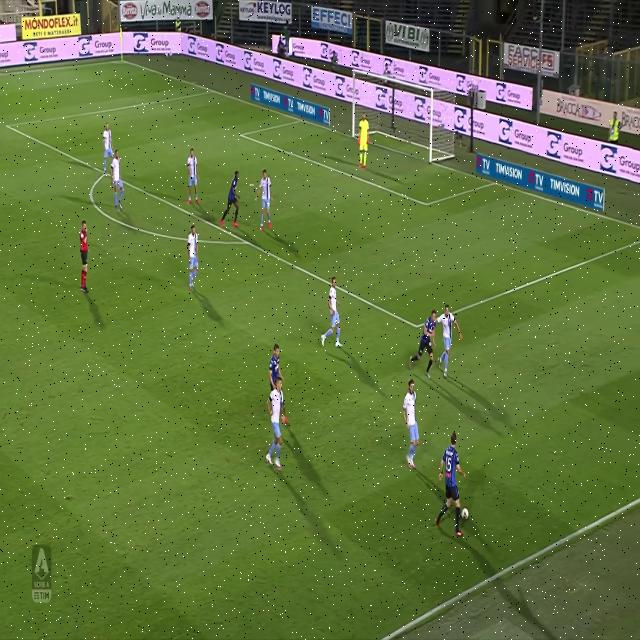Ball: (461, 503, 470, 529)
GoalKeeper: (354, 114, 373, 174)
TEAM 1: (434, 302, 467, 384), (266, 373, 292, 474), (397, 375, 423, 475), (322, 276, 347, 354), (254, 163, 272, 239), (109, 148, 128, 218), (185, 146, 202, 208), (188, 223, 202, 290), (102, 123, 115, 173)
TEAM 2: (437, 434, 467, 543), (410, 309, 437, 373), (222, 169, 242, 229), (266, 340, 282, 388)
